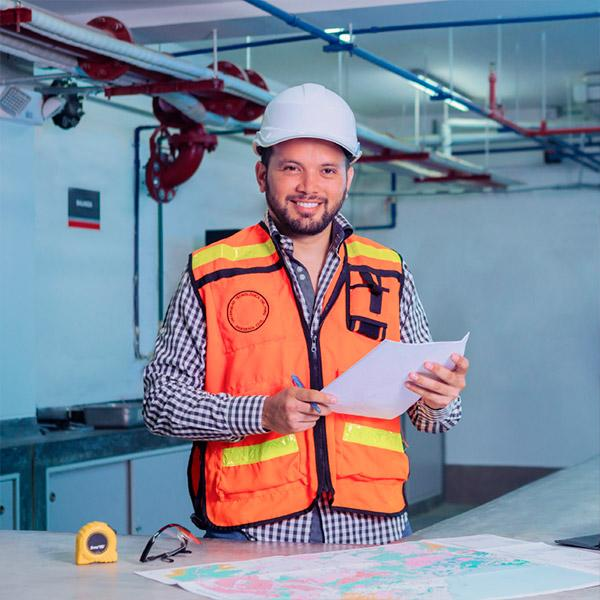hat: (236, 69, 384, 176)
vest: (164, 223, 443, 536)
